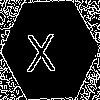X: (25, 24, 56, 72)
